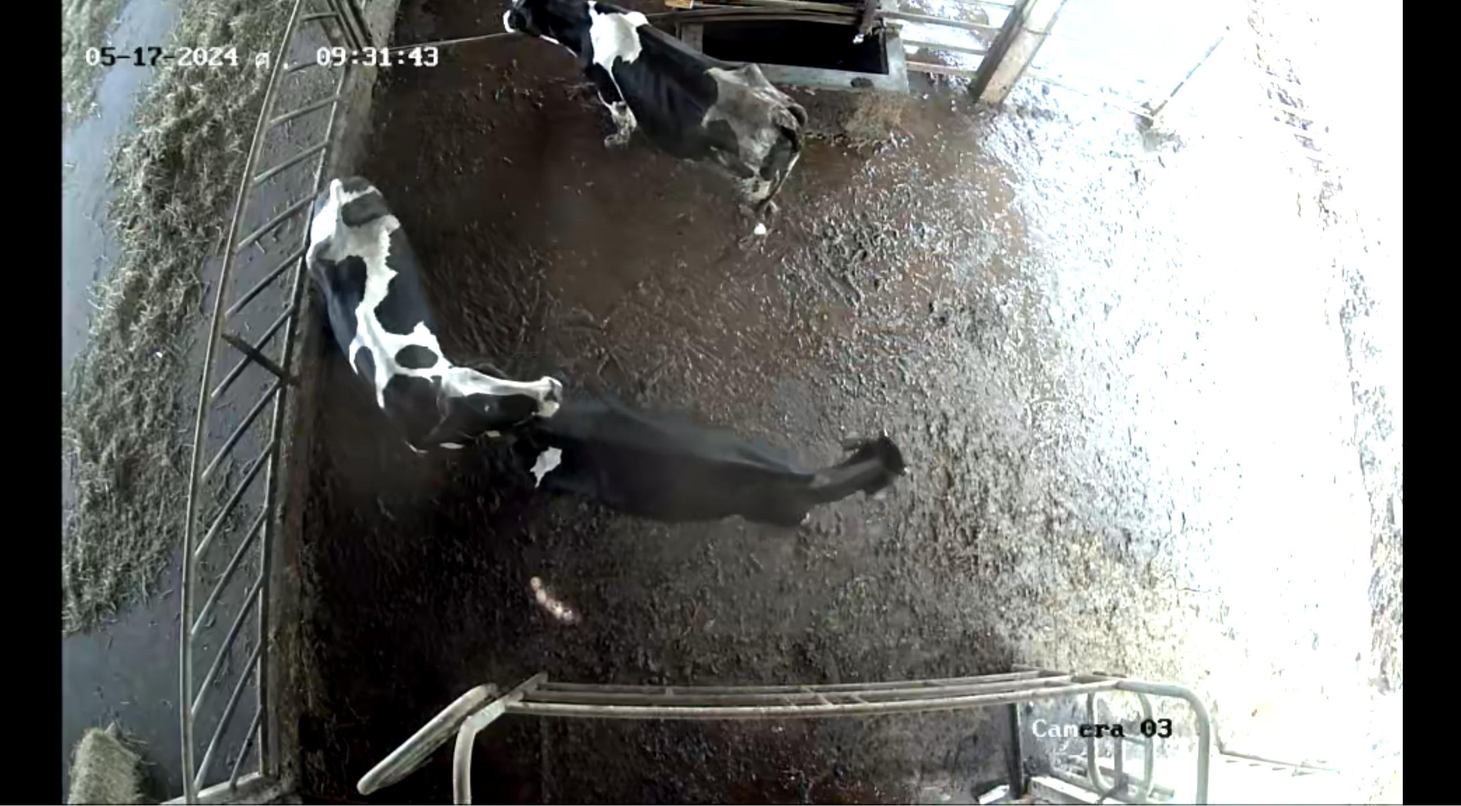propping: (411, 350, 599, 467)
stand: (515, 340, 919, 557), (497, 0, 811, 241)
